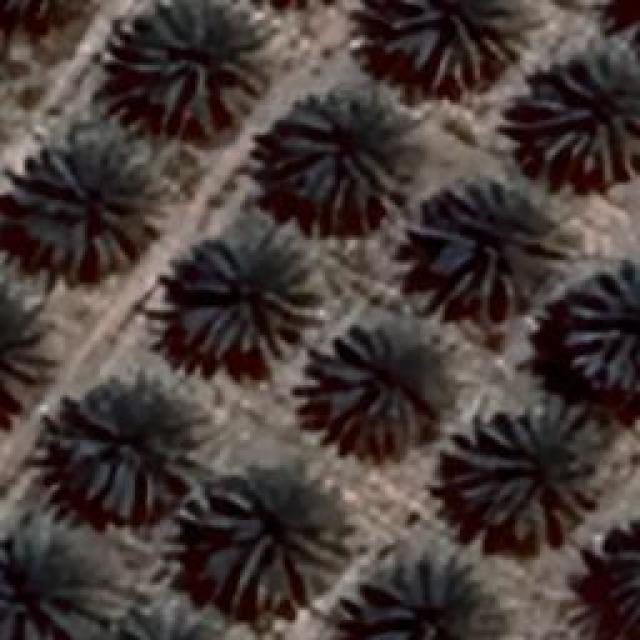PalmTree: (445, 400, 600, 542), (17, 132, 165, 272), (200, 480, 350, 615), (415, 180, 560, 315), (170, 235, 322, 363), (130, 2, 270, 138), (308, 322, 442, 458), (265, 85, 405, 215), (515, 45, 635, 185), (62, 390, 190, 520), (0, 524, 118, 638), (350, 558, 510, 638), (388, 0, 522, 88), (560, 262, 638, 390), (0, 295, 55, 415), (103, 587, 223, 640), (596, 512, 637, 640), (0, 0, 86, 54)
